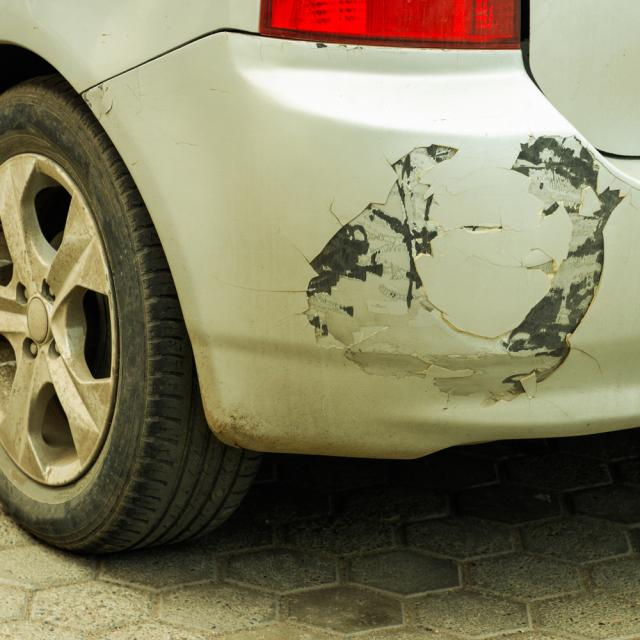scratch: (286, 133, 634, 409)
